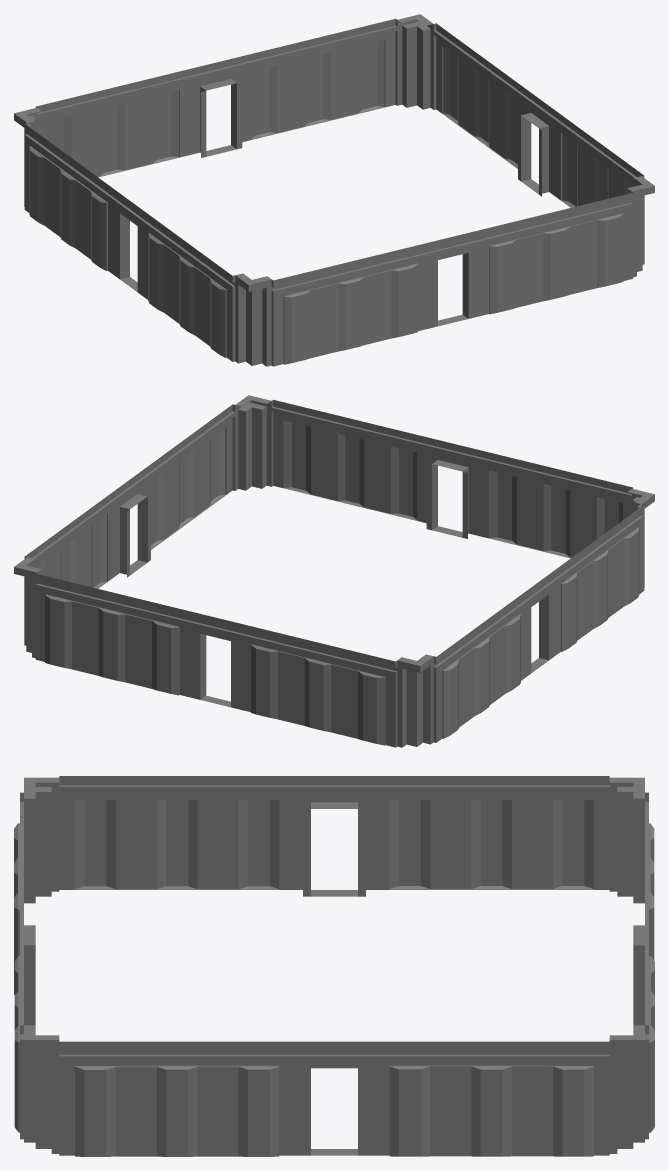
File: tesla_modules_core_wall_outer_02.dae
The picture shows the model from 3 angles, top to bottom: view 1: azimuth 30°, elevation 25°; view 2: azimuth 150°, elevation 25°; view 3: azimuth 270°, elevation 25°; orthographic projection. The views are drawn at different scales.
Parts seen in each view (by area): view 1: polySurface40; view 2: polySurface40; view 3: polySurface40.
Part boxes in pixels (x1=…): polySurface40: x1=14, y1=14, x2=654, y2=366; polySurface40: x1=14, y1=395, x2=654, y2=747; polySurface40: x1=14, y1=776, x2=654, y2=1156.
Bounding box in the file's own units: 40772 × 8000 × 40772.
